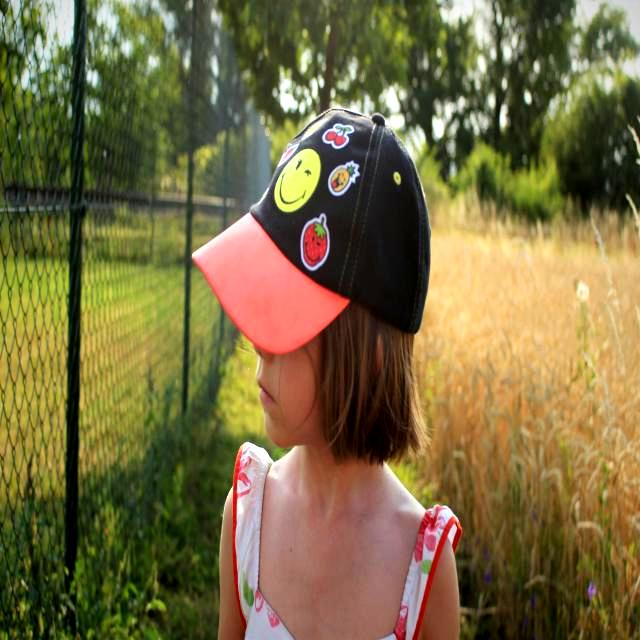no_hard_hat: (193, 109, 430, 354)
person: (195, 109, 461, 640)
